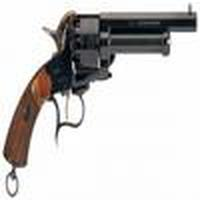gun: (4, 12, 197, 175)
